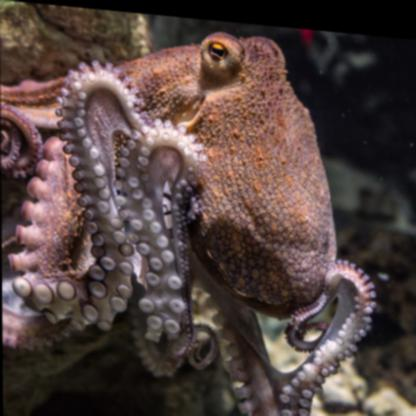Squid: (0, 15, 377, 415)
